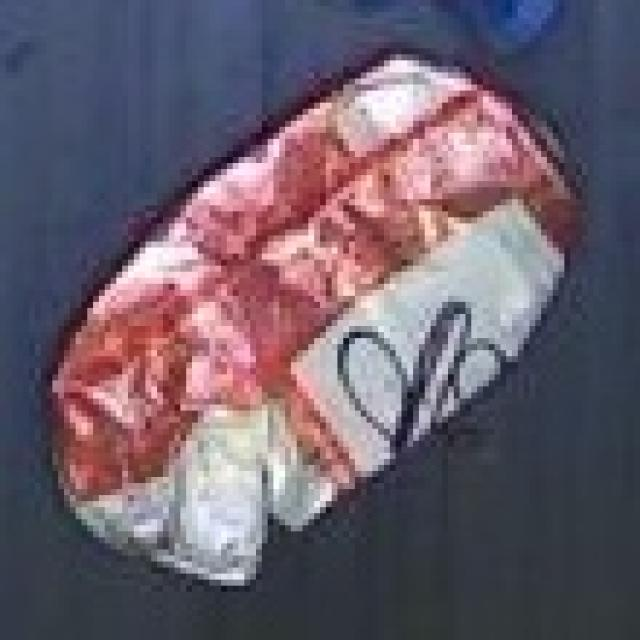litter: (16, 13, 603, 602)
